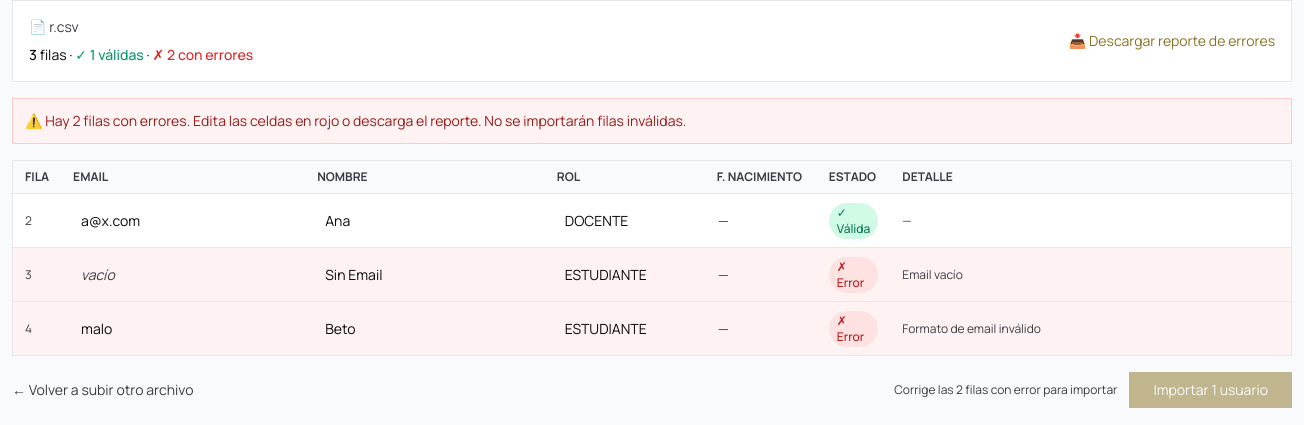
CsvPreviewTable › click en "X con errores" filtra a inválidas (toggle)
The image size is (1304, 425).
Expected: the text "a@x.com" is shown, [81, 210, 140, 230]
Step 1. Click the button with test id "filtro-invalidas" → (203, 55), box [153, 45, 253, 65]
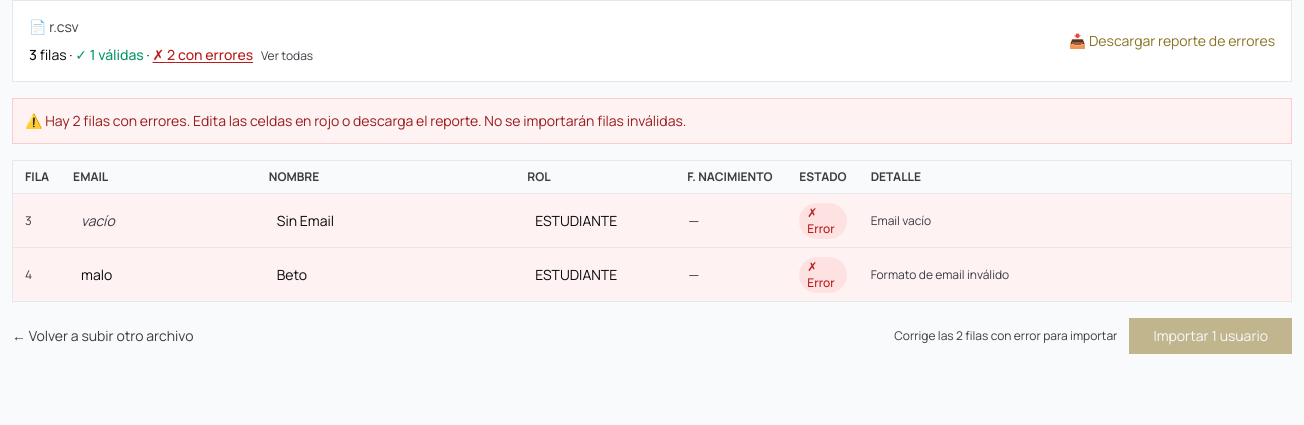
Expected: the text "Sin Email" is shown, [277, 210, 334, 230]
Expected: the text "a@x.com" is gone
// click otra vez desactiva el filtro
Step 2. Click the button with test id "filtro-invalidas" → (203, 55), box [153, 45, 253, 65]
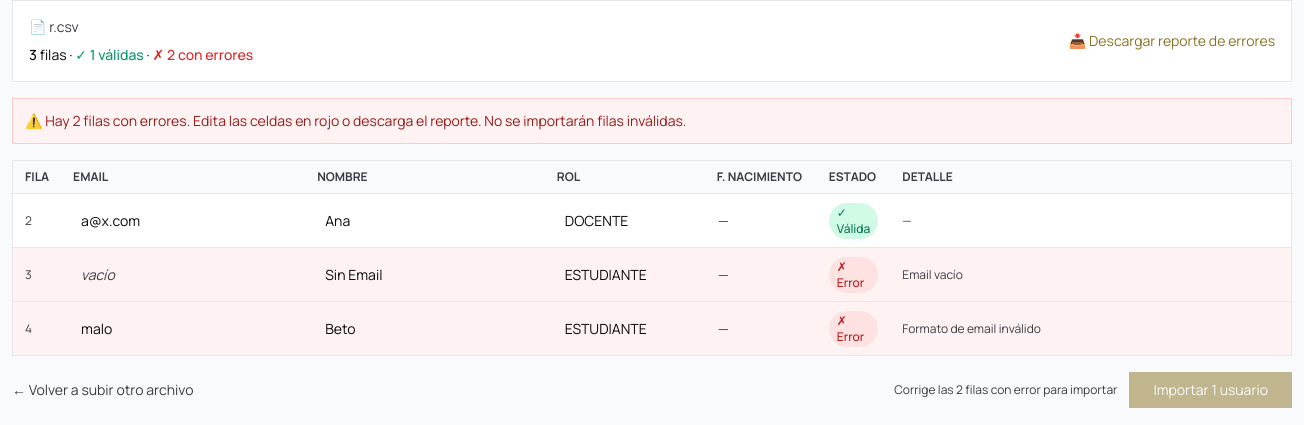
Expected: the text "a@x.com" is shown, [81, 210, 140, 230]
